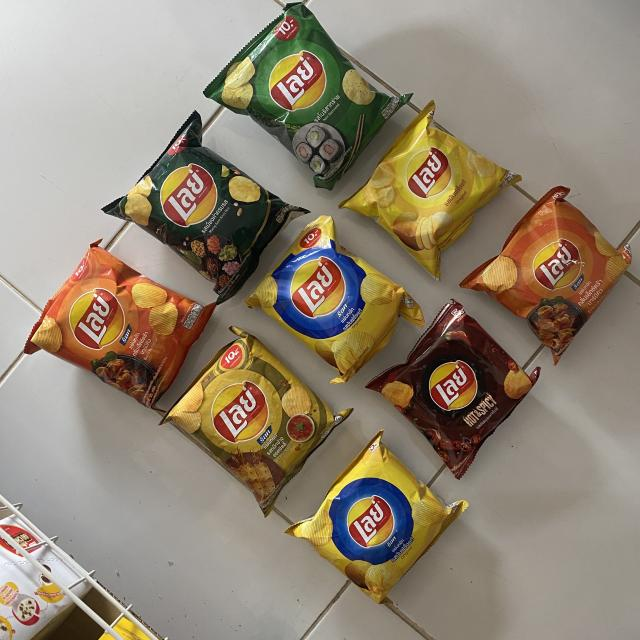plastik: (102, 111, 308, 304), (204, 2, 411, 190), (160, 326, 352, 516), (24, 240, 216, 408), (340, 101, 521, 279), (285, 430, 468, 604), (366, 300, 540, 479), (460, 186, 631, 364), (245, 216, 424, 382)
